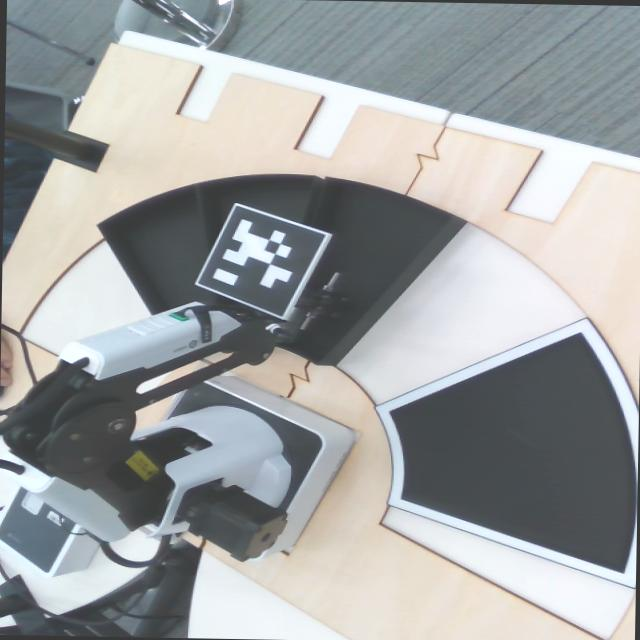board: (369, 339, 640, 585)
box: (255, 168, 464, 392), (87, 177, 256, 362), (199, 168, 325, 336)
